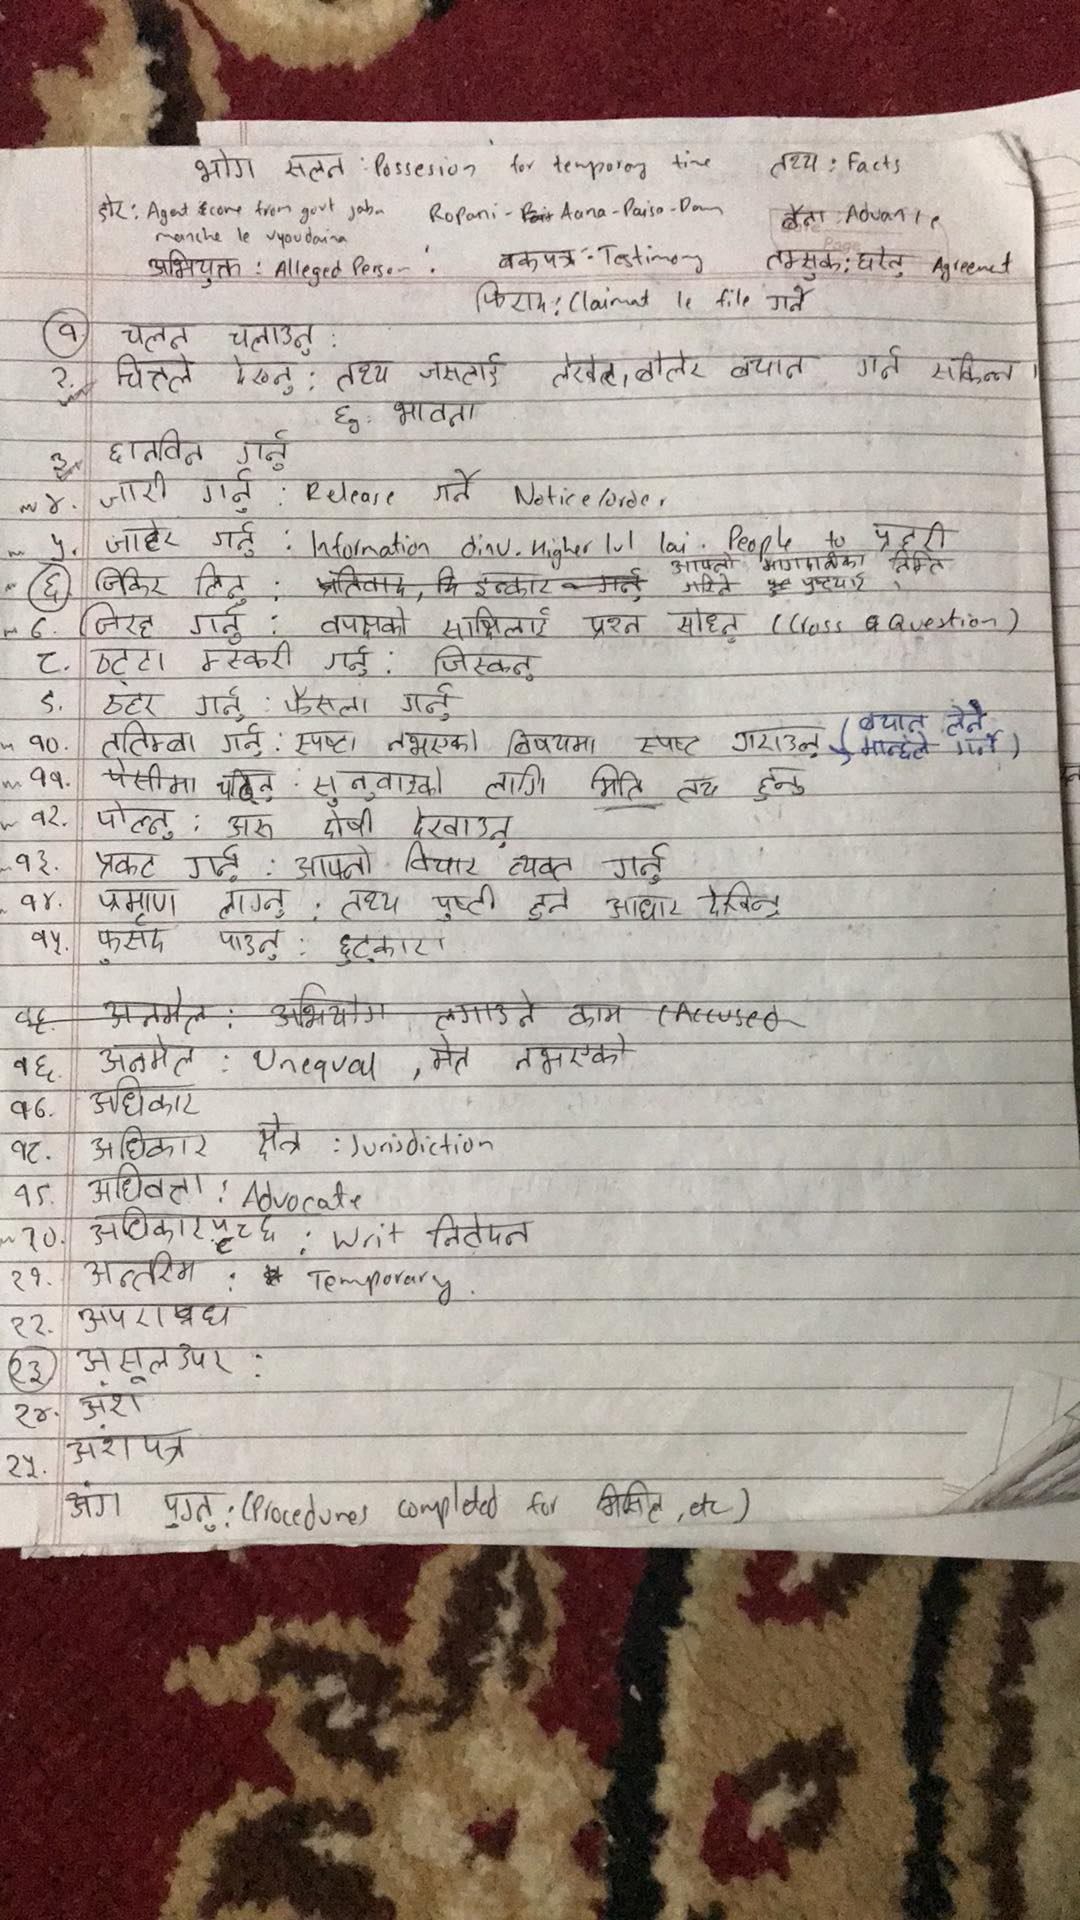text: (84, 1204, 276, 1255), (73, 1341, 233, 1387), (301, 757, 448, 804), (513, 1029, 640, 1079), (83, 1072, 199, 1124), (75, 1300, 235, 1335), (76, 1124, 208, 1163), (429, 1208, 537, 1255), (404, 804, 524, 847), (84, 1164, 212, 1204), (439, 604, 553, 647), (80, 1255, 204, 1295), (65, 1427, 191, 1465), (95, 1034, 199, 1077), (109, 427, 219, 468), (88, 796, 181, 844), (144, 248, 244, 291), (103, 756, 199, 800), (696, 872, 785, 920), (111, 349, 195, 400), (335, 928, 444, 967), (724, 719, 823, 761), (222, 316, 316, 360), (102, 721, 203, 761), (431, 644, 539, 680), (415, 349, 505, 393), (593, 1477, 669, 1528), (222, 351, 301, 400), (378, 719, 483, 756), (931, 347, 1021, 388), (502, 724, 600, 761), (200, 640, 295, 676), (472, 277, 553, 320), (669, 604, 746, 649), (601, 839, 673, 887), (157, 1487, 224, 1539), (79, 599, 156, 644), (92, 645, 173, 687), (98, 885, 183, 924), (316, 605, 411, 641), (57, 1476, 125, 1524), (479, 760, 553, 804), (280, 683, 372, 719), (94, 559, 171, 601), (633, 345, 708, 389), (427, 880, 500, 924), (102, 521, 183, 560), (401, 839, 480, 880), (869, 513, 949, 553), (547, 349, 621, 392), (183, 599, 251, 645), (293, 847, 373, 885), (212, 884, 287, 924), (388, 400, 480, 433), (396, 676, 458, 725), (95, 471, 169, 512), (73, 1383, 146, 1424), (249, 1109, 305, 1163), (92, 920, 175, 956), (580, 760, 647, 803), (761, 244, 843, 280), (727, 349, 808, 385), (604, 893, 688, 927), (276, 145, 348, 185), (84, 847, 167, 881), (193, 555, 253, 601), (233, 425, 295, 469), (215, 924, 285, 964), (502, 851, 580, 885), (855, 702, 928, 737), (196, 475, 253, 521), (185, 843, 247, 884), (191, 683, 249, 727), (425, 1031, 477, 1077), (119, 320, 191, 353), (584, 607, 649, 644), (856, 339, 907, 385), (492, 245, 576, 273), (91, 688, 165, 720), (189, 152, 258, 185), (856, 241, 909, 285), (334, 357, 393, 396), (316, 804, 380, 840), (291, 725, 361, 757), (636, 729, 705, 761), (427, 467, 487, 504), (324, 640, 373, 684), (336, 891, 411, 920), (752, 765, 804, 804), (520, 884, 574, 920), (9, 1346, 49, 1395), (220, 721, 268, 761), (767, 148, 824, 181), (204, 524, 261, 556), (940, 699, 988, 737), (223, 811, 280, 843), (11, 1048, 55, 1087), (4, 1445, 44, 1487), (24, 924, 69, 960), (87, 193, 129, 229), (7, 1093, 55, 1125), (13, 1222, 59, 1255), (17, 884, 61, 918), (5, 1255, 41, 1296), (40, 443, 73, 487), (11, 1309, 55, 1341), (13, 1395, 55, 1428), (15, 843, 55, 876), (24, 764, 69, 793), (47, 359, 76, 401), (15, 1180, 51, 1213), (5, 1137, 47, 1164), (36, 484, 69, 517), (676, 775, 716, 800), (25, 732, 61, 757), (36, 649, 63, 680), (26, 804, 61, 829), (55, 319, 80, 347), (28, 613, 49, 645), (37, 687, 61, 715), (37, 572, 61, 599), (45, 529, 65, 559)
